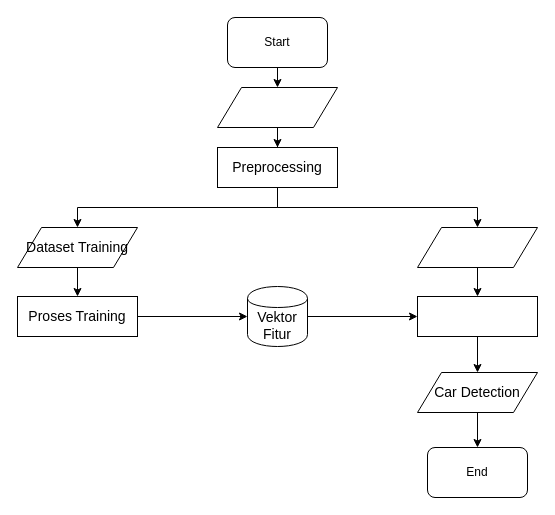
This 555x515 diagram has some shape labels left out. Each missing label, with the box of its shape:
Dataset Testing: (416, 226, 538, 268)
Input Citra (Dataset): (216, 86, 338, 128)
Proses Testing: (416, 296, 538, 336)
